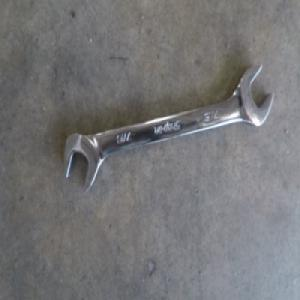Wrench: (68, 67, 271, 194)
